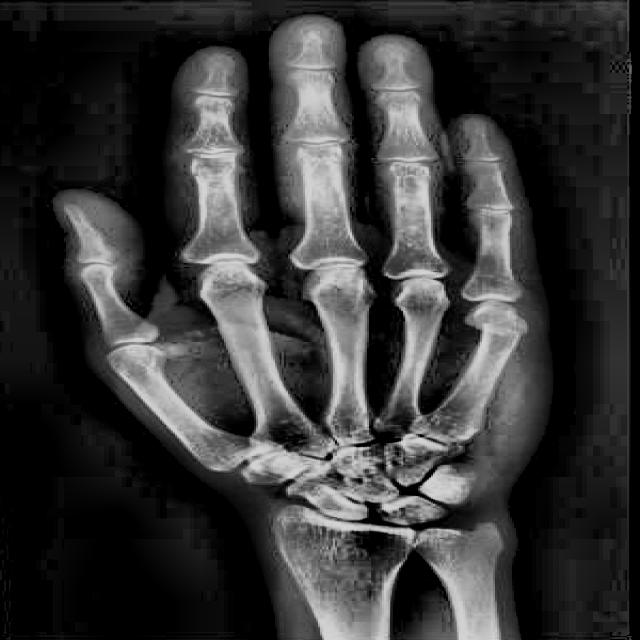fracture: (463, 308, 529, 337)
